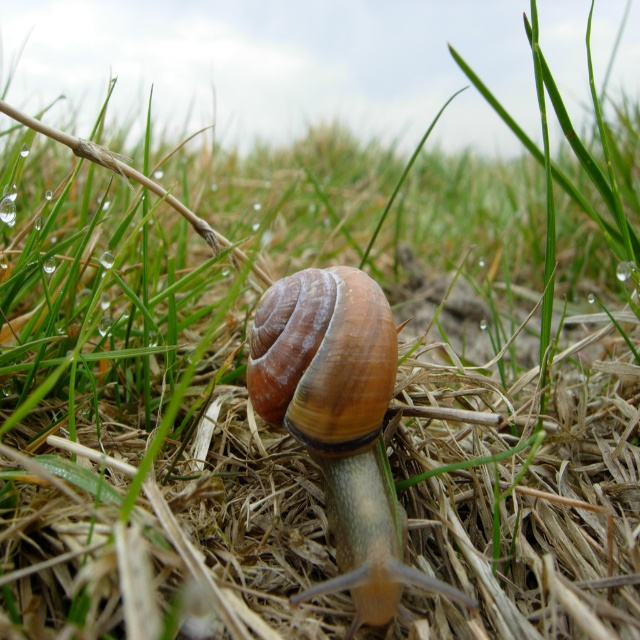Snail: (242, 260, 480, 639)
